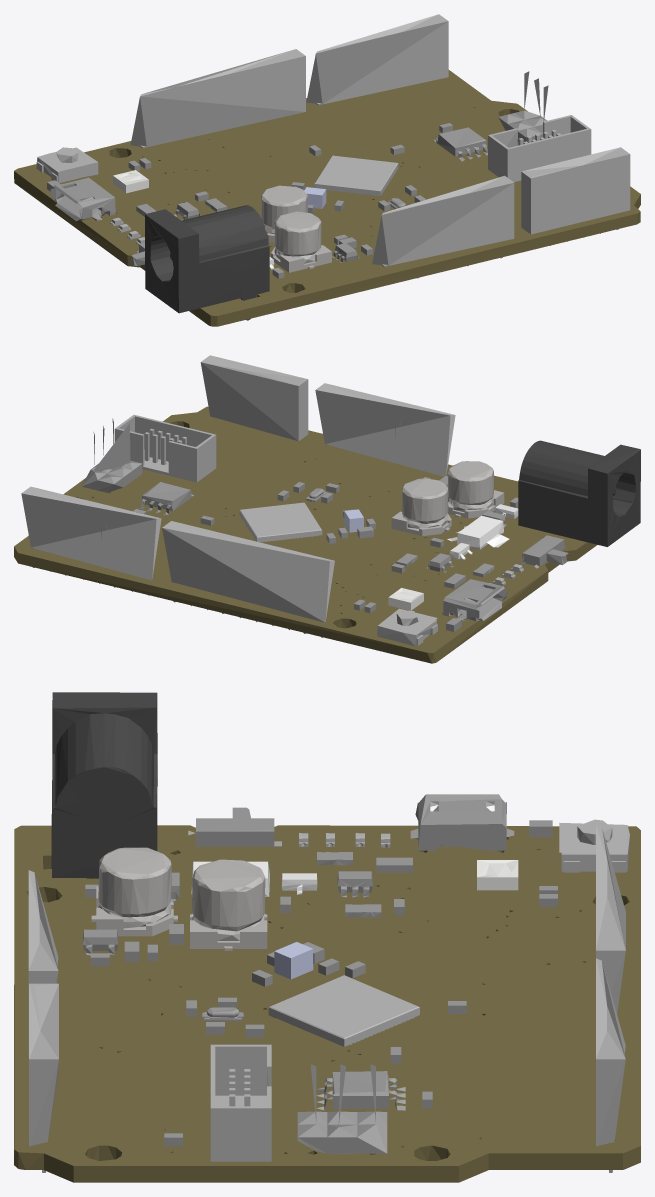
Rendered from adafruit-3382-metro-m4.glb.
3 views of the same model, one above another, from view 1: azimuth 30°, elevation 25°; view 2: azimuth 150°, elevation 25°; view 3: azimuth 270°, elevation 25° (orthographic). The views are drawn at different scales.
Parts seen in each view (by area): view 1: colour 1, colour 3, colour 9, colour 2, colour 4, colour 7; view 2: colour 1, colour 3, colour 9, colour 2, colour 4, colour 5, colour 7, colour 6; view 3: colour 1, colour 3, colour 2, colour 9, colour 4, colour 7, colour 8.
Part boxes in pixels (left/top/right/bottom): colour 1: left=14, top=70, right=640, bottom=326; colour 3: left=36, top=14, right=630, bottom=278; colour 9: left=145, top=205, right=269, bottom=320; colour 2: left=47, top=71, right=548, bottom=278; colour 4: left=261, top=185, right=331, bottom=272; colour 7: left=113, top=170, right=148, bottom=193; colour 1: left=14, top=406, right=597, bottom=663; colour 3: left=21, top=355, right=523, bottom=646; colour 9: left=518, top=440, right=640, bottom=546; colour 2: left=81, top=418, right=568, bottom=631; colour 4: left=391, top=461, right=504, bottom=535; colour 5: left=447, top=515, right=509, bottom=549; colour 7: left=388, top=588, right=423, bottom=610; colour 6: left=449, top=504, right=518, bottom=560; colour 1: left=14, top=825, right=640, bottom=1182; colour 3: left=28, top=819, right=629, bottom=1172; colour 2: left=83, top=794, right=557, bottom=1154; colour 9: left=51, top=692, right=157, bottom=878; colour 4: left=91, top=847, right=267, bottom=950; colour 7: left=477, top=860, right=518, bottom=890; colour 8: left=274, top=942, right=313, bottom=979.
Bounding box in the file's own units: 0.0719 × 0.0145 × 0.0533.
